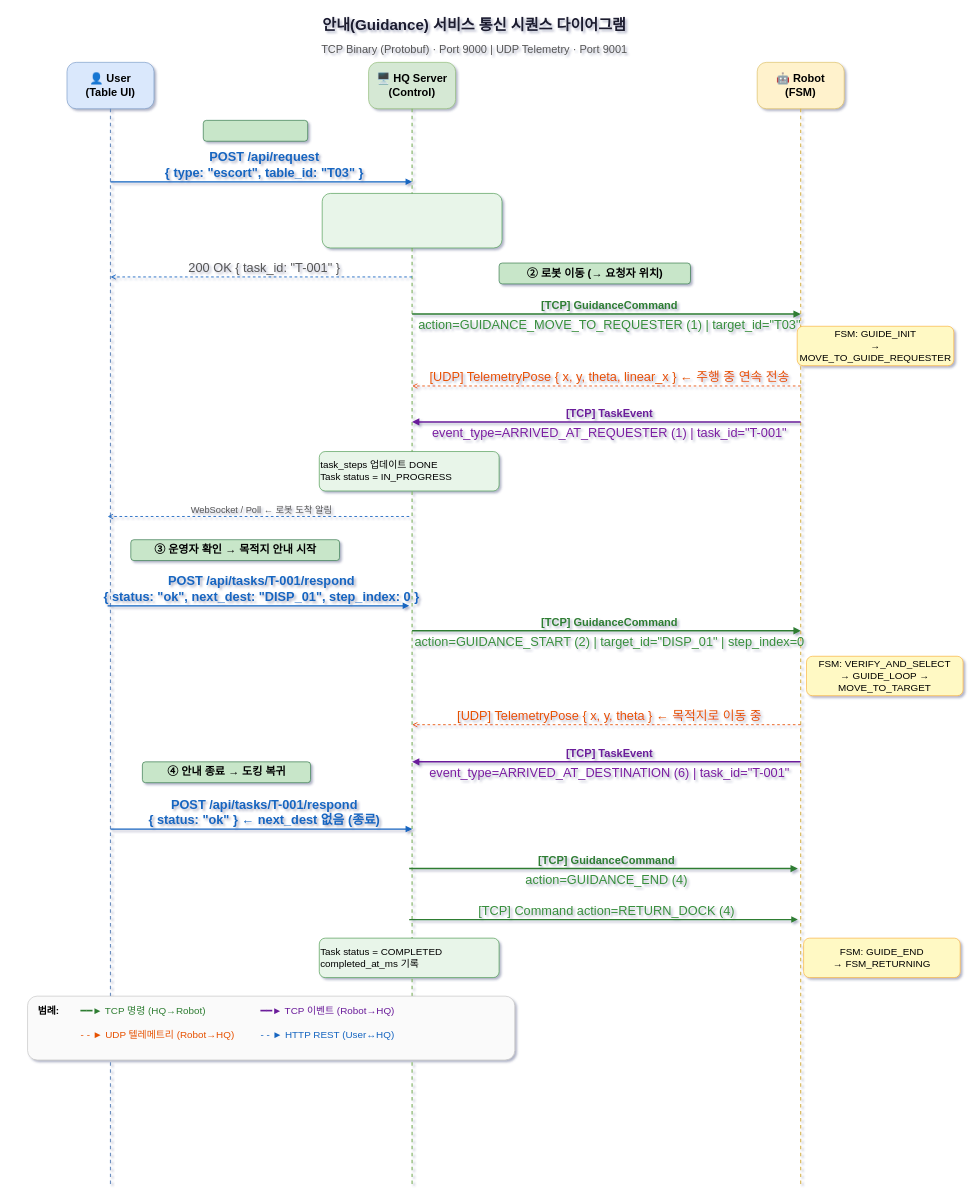
The diagram is 977 pixels wide and 1202 high, and some of its shapes have lost their labels. The box of each missing label's shape, as (x1, y1, x2, y2) in pixels:
Task 생성 (PENDING) type=ESCORT_SERVICE battery 체크 > 25%: (322, 193, 502, 248)
① 안내 요청: (203, 120, 308, 141)
